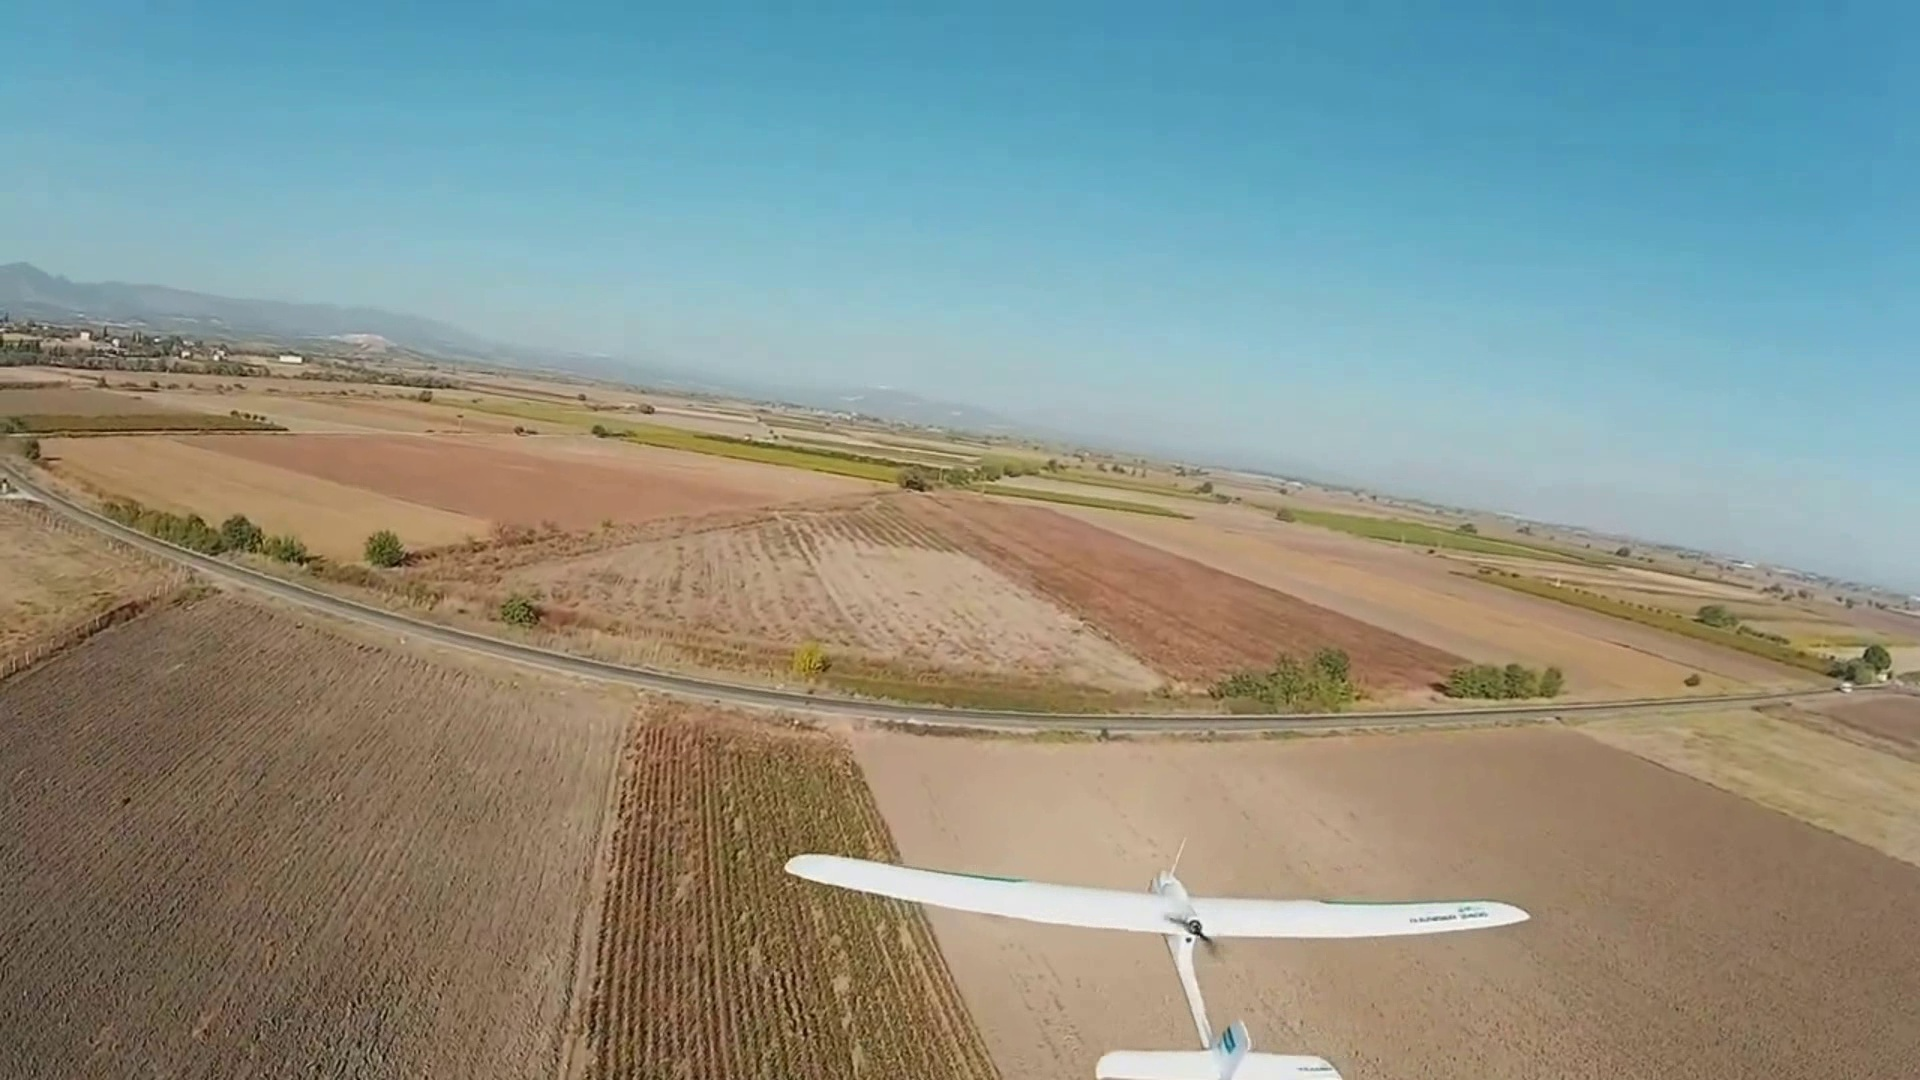airplane: (782, 852, 1536, 1073)
